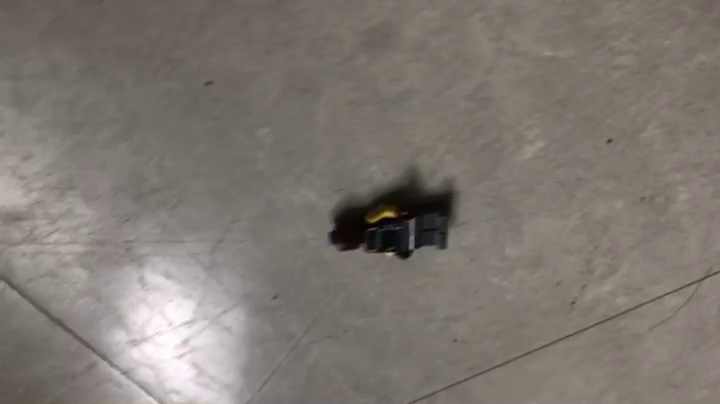people: (326, 189, 455, 263)
